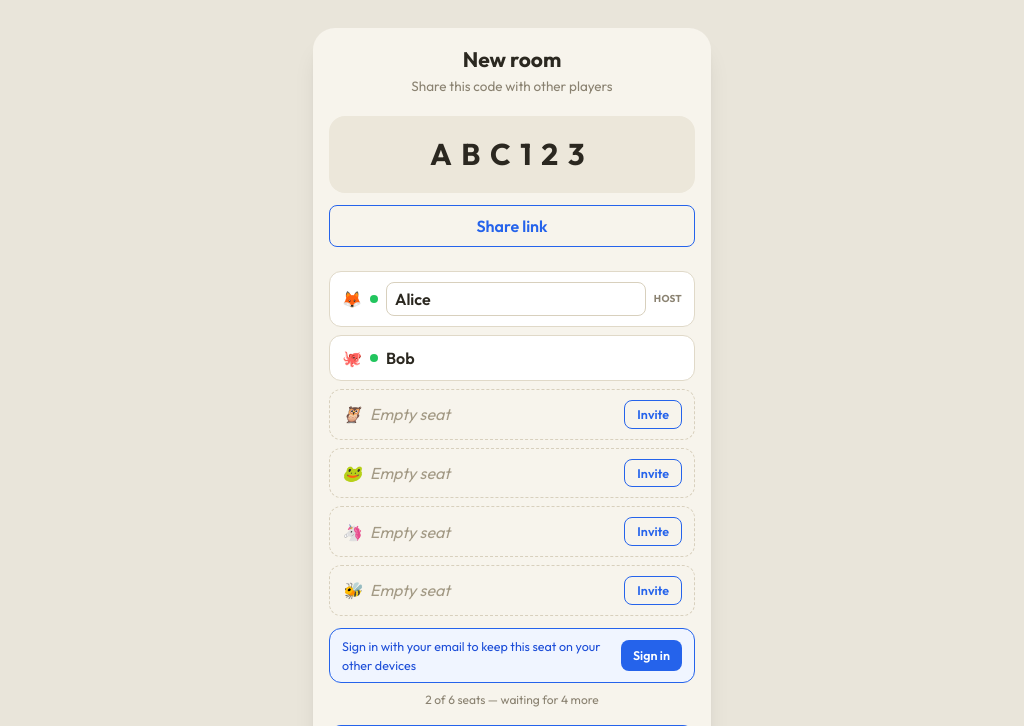
Scenario: RoomPage — sign-in from the lobby (spec 2026-09-09) › a lobby on a device with no address offers sign-in, which opens the settings sheet
Click the button "Sign in".
click(652, 656)  # box [621,640,682,671]
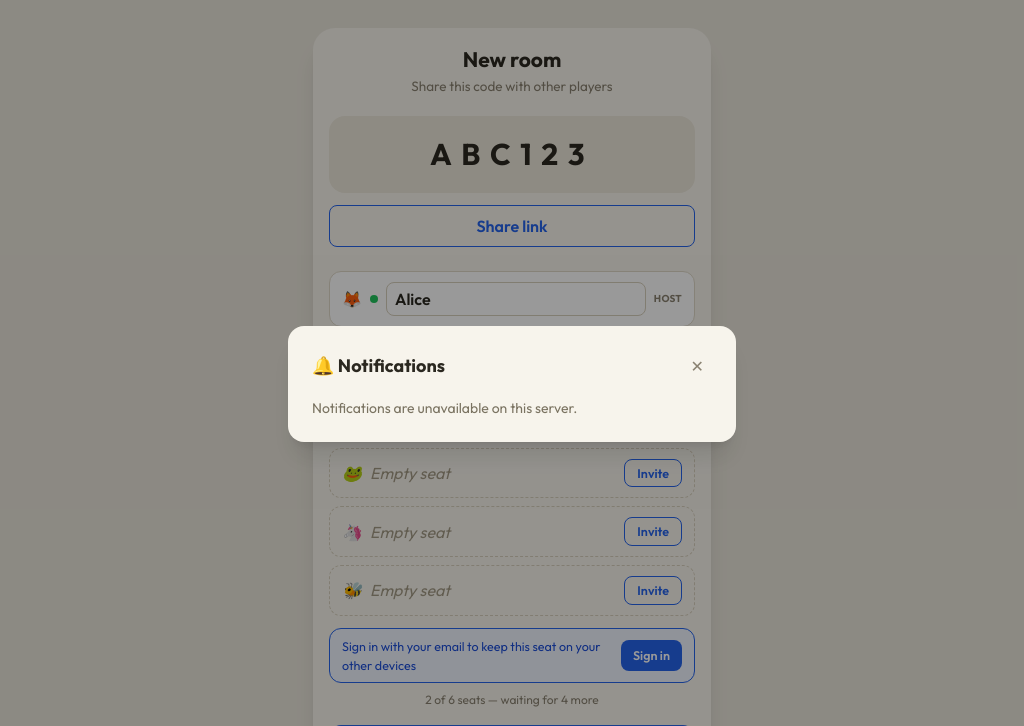
Expected: the dialog named "Notification settings" is shown, [288,326,736,442]
